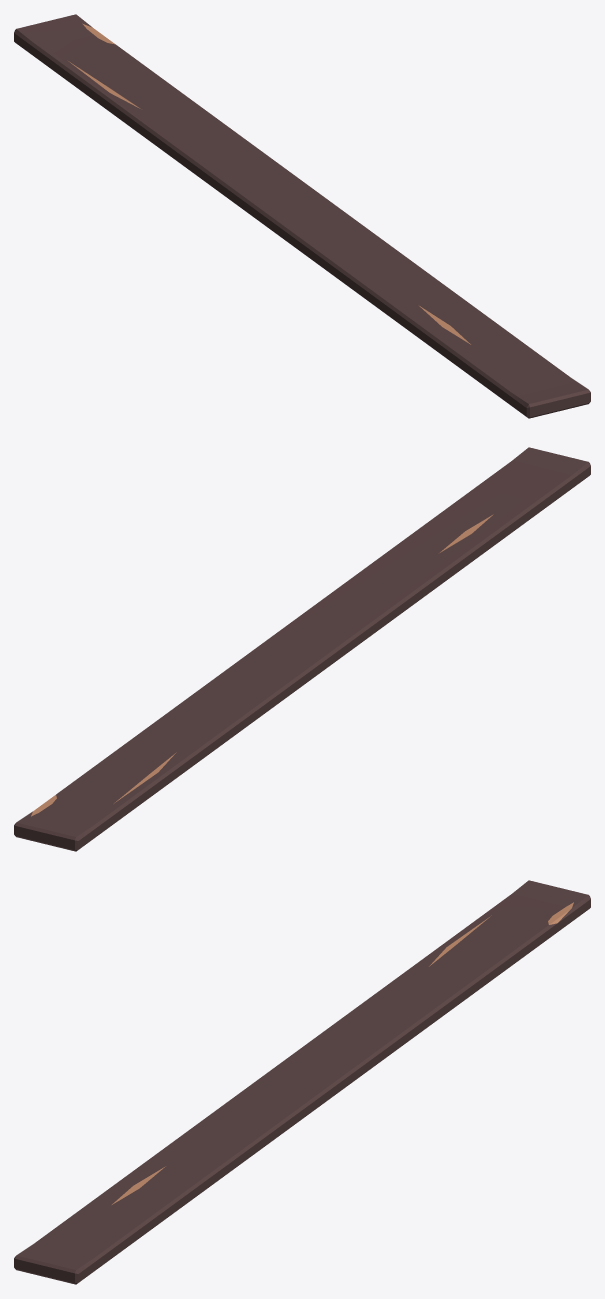
Rendered from wood_2.FBX.
3 renders of one model, top to bottom at view 1: azimuth 30°, elevation 25°; view 2: azimuth 150°, elevation 25°; view 3: azimuth 330°, elevation 25°, orthographic.
Visible parts, largest first — view 1: wood_2; view 2: wood_2; view 3: wood_2.
Boxes of the visible parts, box(x1,y1,x2,y2) form: wood_2: box(14, 14, 590, 418); wood_2: box(14, 447, 590, 851); wood_2: box(14, 880, 590, 1284).
Bounding box in the file's own units: 19.09 × 4.14 × 265.
